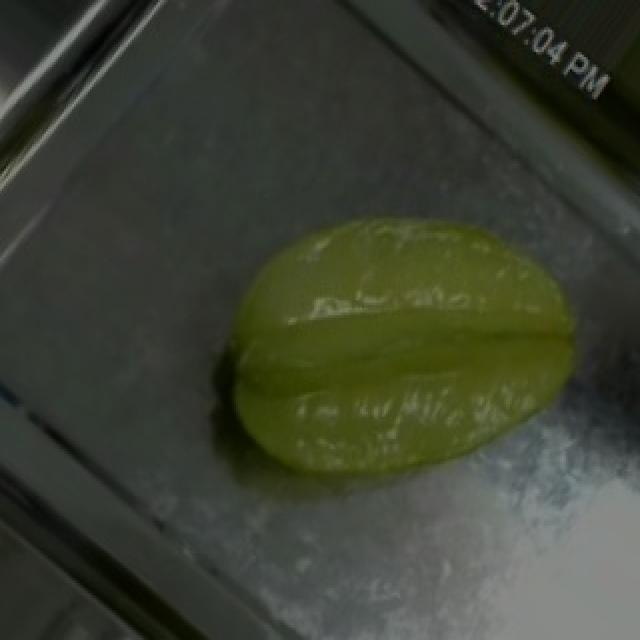fruit: (128, 47, 640, 531)
